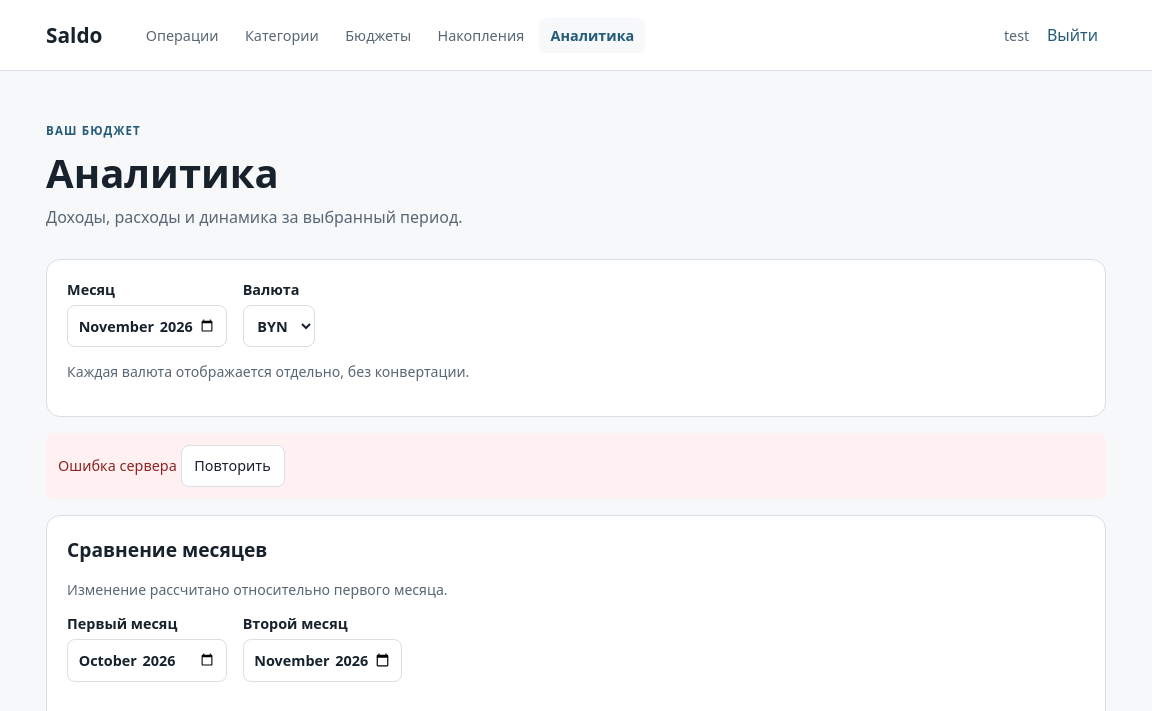
Scenario: financial analytics › shows API errors and allows retry
Expected: the message shows "Ошибка сервера", [58,456,177,475]
Click the button "Повторить" at (232, 466), box [180,446,284,487]
(page scrolled)
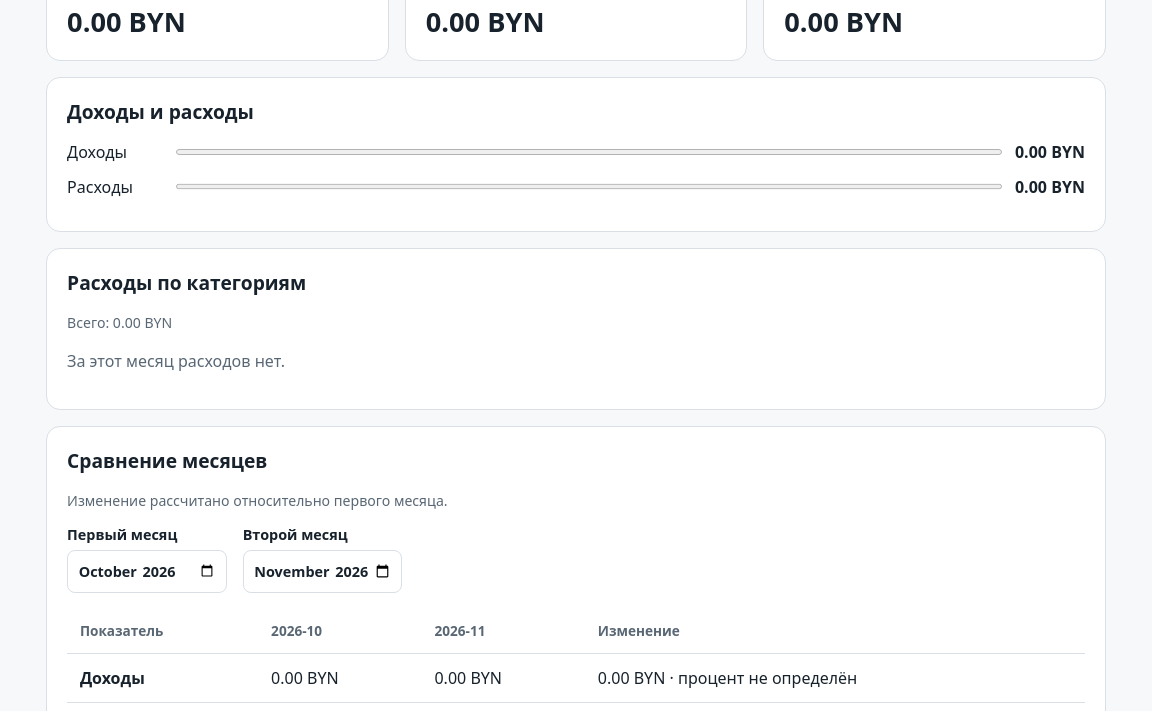
Result: the text "За этот месяц расходов нет." is shown at [67,350,285,372]
